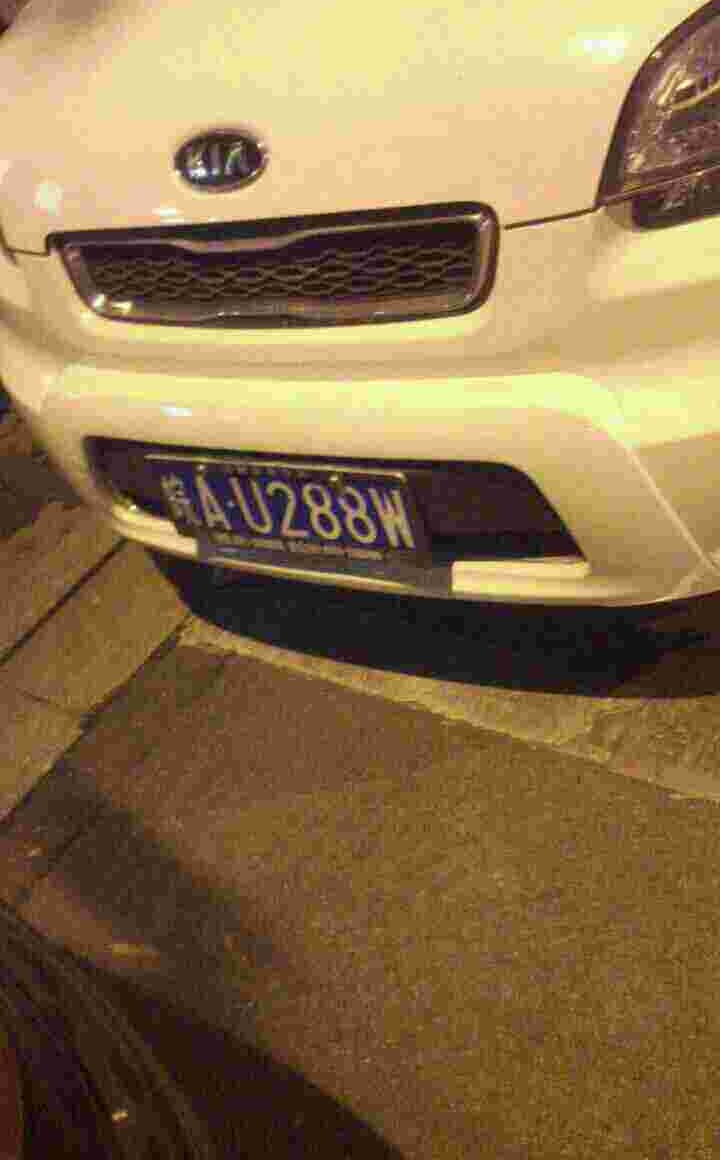license_plate: (147, 454, 440, 556)
